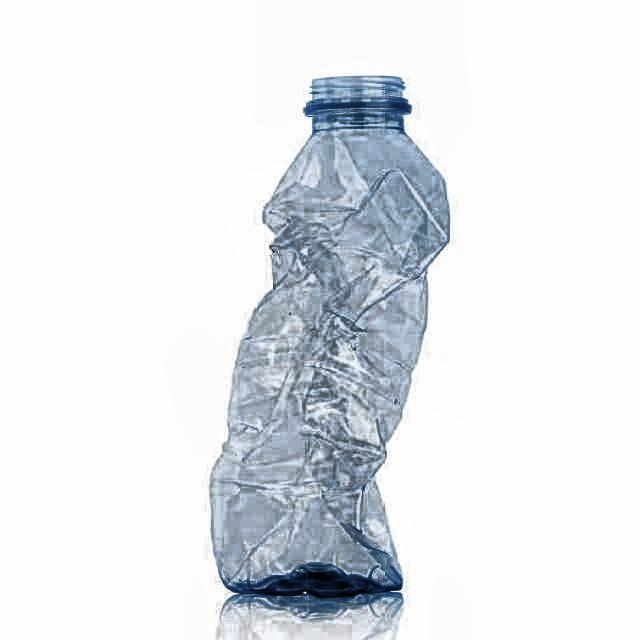plastic: (207, 73, 452, 640)
